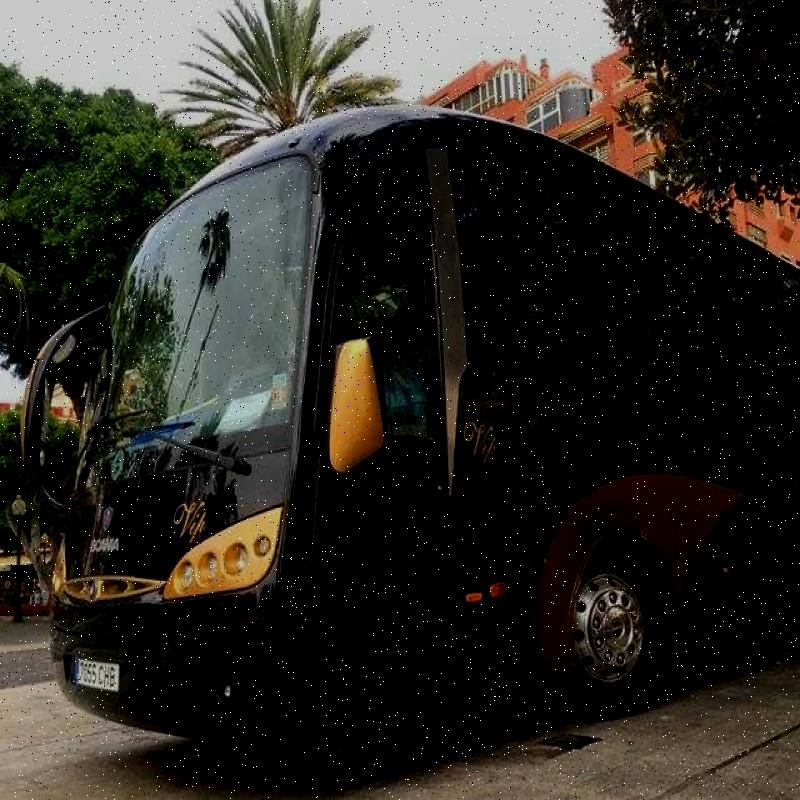bus: (50, 69, 800, 715)
